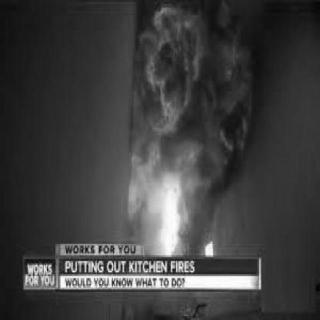other: (20, 237, 154, 297)
